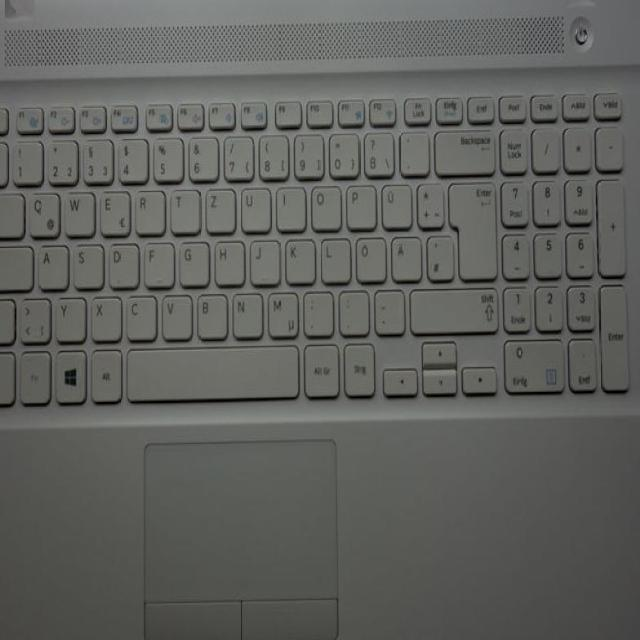0: (325, 128, 357, 175)
1: (10, 137, 41, 183)
2: (44, 135, 76, 181)
3: (80, 134, 111, 180)
4: (115, 134, 145, 180)
5: (150, 133, 181, 179)
6: (187, 135, 218, 180)
7: (221, 132, 252, 178)
8: (256, 130, 286, 176)
9: (290, 130, 322, 176)
a: (35, 241, 66, 287)
accent: (396, 127, 427, 173)
ae: (388, 232, 420, 278)
alt-left: (87, 345, 120, 401)
altgr-right: (301, 340, 337, 396)
b: (194, 289, 226, 336)
c: (124, 292, 155, 338)
caret: (0, 138, 14, 184)
comma: (300, 287, 332, 334)
d: (106, 240, 136, 286)
del: (432, 126, 494, 173)
e: (96, 186, 128, 233)
enter: (445, 177, 495, 278)
f: (142, 238, 172, 284)
g: (176, 237, 207, 284)
h: (212, 236, 242, 282)
hash: (423, 231, 451, 278)
i: (273, 181, 303, 227)
j: (247, 235, 277, 282)
k: (282, 233, 313, 280)
keyboard: (0, 66, 636, 418)
l: (318, 233, 348, 280)
less: (15, 293, 49, 341)
m: (264, 288, 296, 335)
minus: (370, 285, 402, 331)
n: (229, 289, 260, 335)
o: (308, 181, 339, 227)
oe: (352, 232, 384, 279)
p: (343, 180, 374, 226)
plus: (413, 179, 442, 225)
point: (335, 286, 367, 333)
q: (24, 188, 58, 235)
r: (133, 186, 163, 232)
s: (70, 240, 101, 287)
shift-left: (0, 295, 18, 341)
shift-lock: (0, 241, 31, 288)
shift-right: (406, 283, 496, 331)
space: (123, 341, 298, 398)
ss: (360, 127, 391, 174)
strg-left: (0, 347, 18, 403)
strg-right: (341, 339, 373, 396)
t: (167, 185, 198, 231)
tab: (0, 187, 22, 236)
u: (238, 183, 268, 230)
ue: (378, 180, 409, 226)
v: (159, 290, 190, 336)
w: (61, 186, 92, 233)
x: (88, 292, 119, 339)
y: (52, 293, 84, 340)
z: (202, 184, 233, 230)
